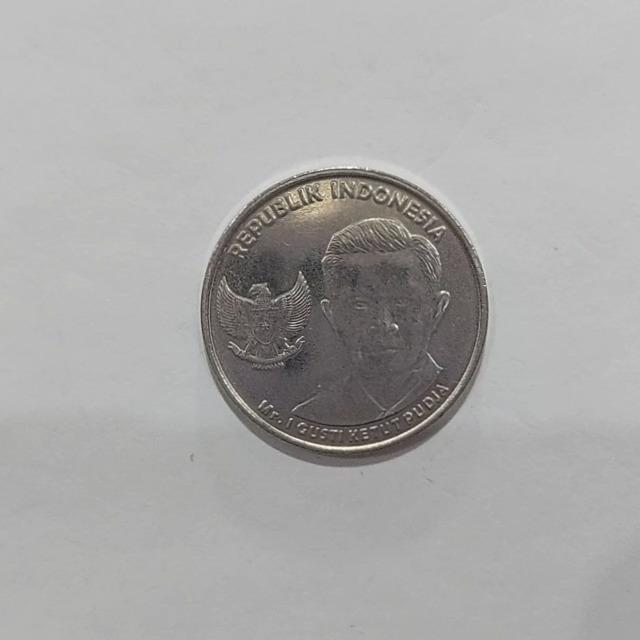Rp100: (198, 161, 490, 463)
